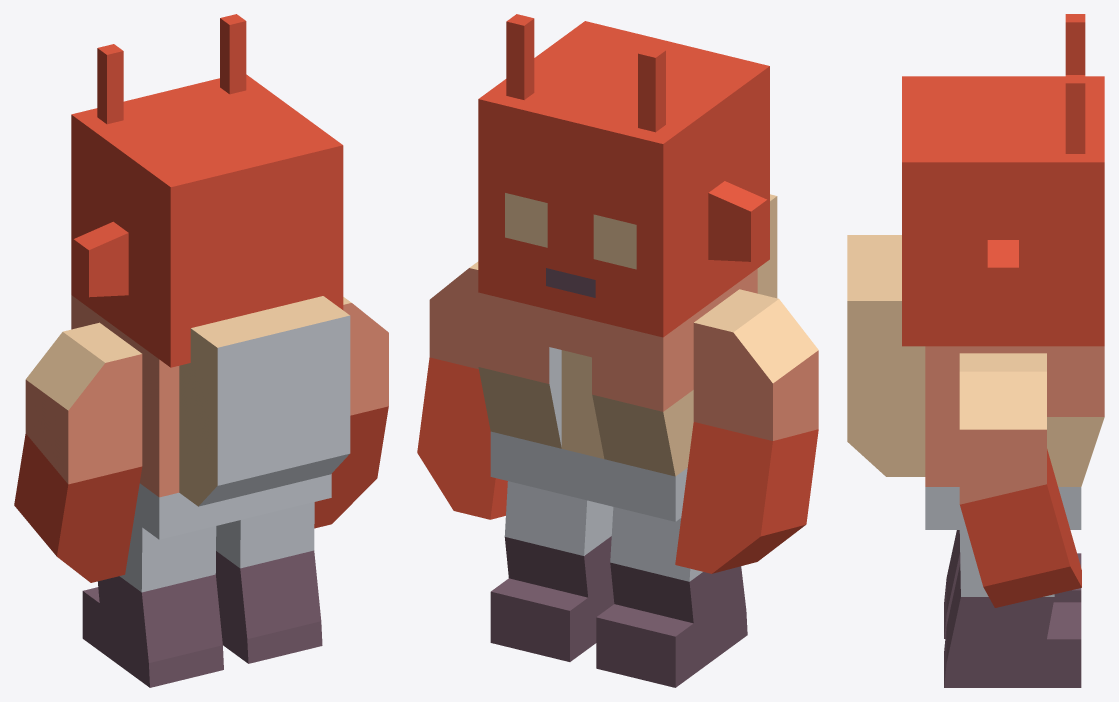
File: enemy.glb
3 renders of one model, left to right at view 1: azimuth 30°, elevation 25°; view 2: azimuth 150°, elevation 25°; view 3: azimuth 270°, elevation 25°, orthographic. The views are drawn at different scales.
Parts seen in each view (by area): view 1: head, body, armLeft, legLeft, legRight, armRight; view 2: head, body, armLeft, legLeft, legRight, armRight; view 3: head, body, armRight, legRight, legLeft.
Boxes of the visible parts, x1,y1,x2,y2 form: head: (71, 14, 343, 367); body: (71, 295, 350, 539); armLeft: (14, 322, 142, 582); legLeft: (82, 521, 223, 687); legRight: (215, 502, 322, 663); armRight: (314, 297, 388, 528); head: (478, 14, 769, 337); body: (478, 194, 777, 521); armLeft: (675, 289, 818, 573); legLeft: (596, 507, 747, 687); legRight: (490, 481, 614, 661); armRight: (417, 261, 507, 519); head: (902, 14, 1104, 346); body: (847, 235, 1104, 529); armRight: (959, 353, 1081, 607); legRight: (944, 530, 1081, 687); legLeft: (944, 530, 1081, 638).
Bounding box in the file's own units: 0.4832 × 0.8432 × 0.33.
